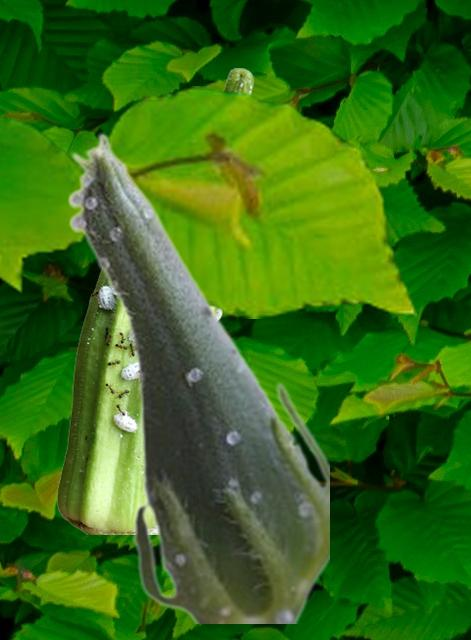okra: (66, 132, 328, 622), (57, 68, 253, 533)
